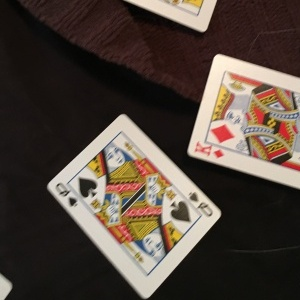card: (46, 113, 220, 299)
